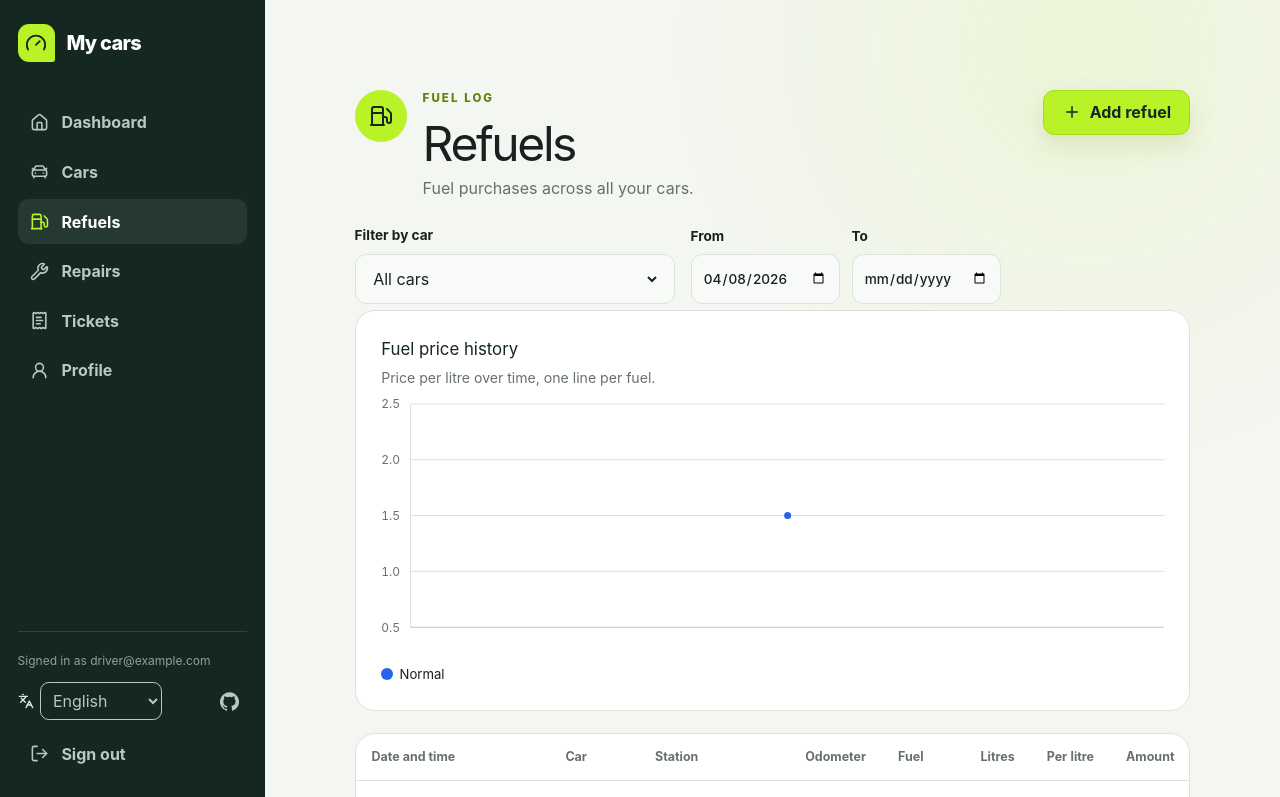
Test: refuels › switches refuel labels to German
The image size is (1280, 797).
Check: the heading "Refuels" is shown, box top-left (423, 114), bottom-right (575, 173)
Step 1. Select "Deutsch" in the dropdown named "Language" → (101, 701), box top-left (40, 682), bottom-right (162, 720)
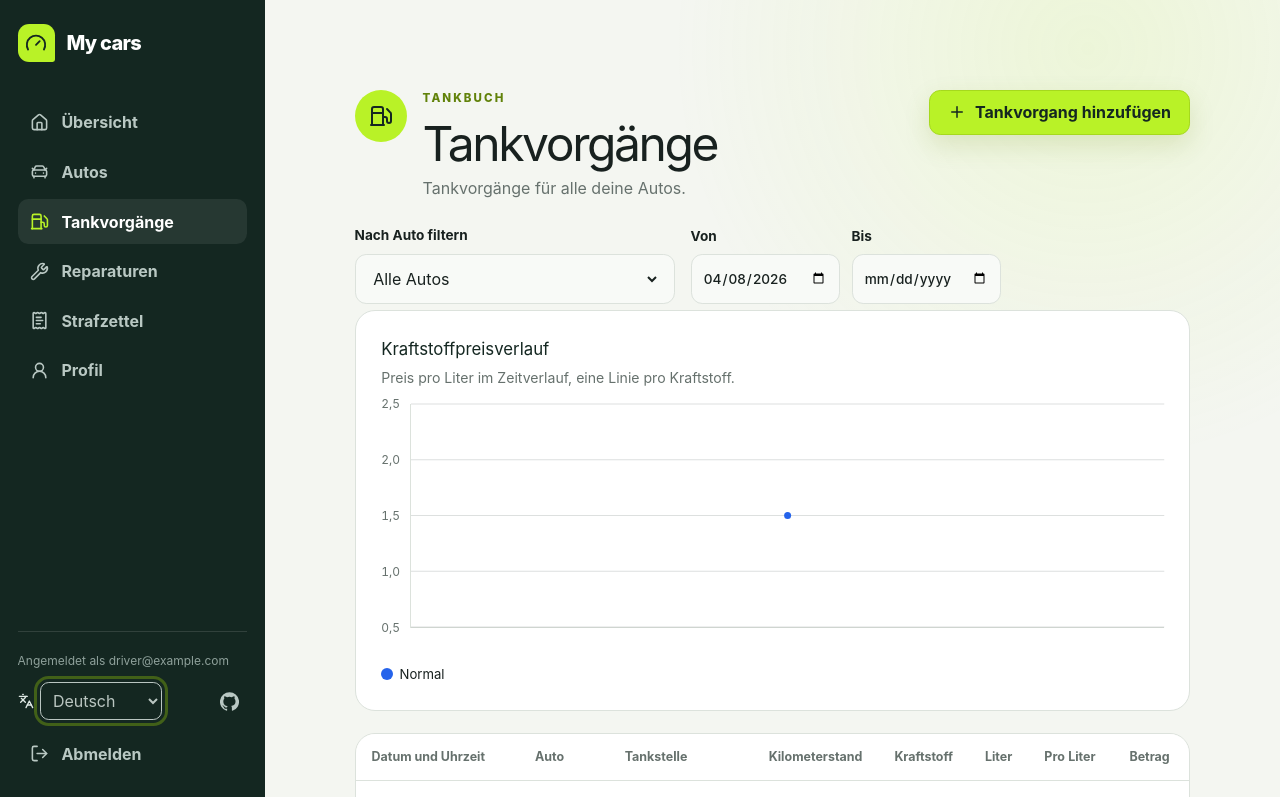
Check: the heading "Tankvorgänge" is shown, box top-left (423, 120), bottom-right (717, 168)
